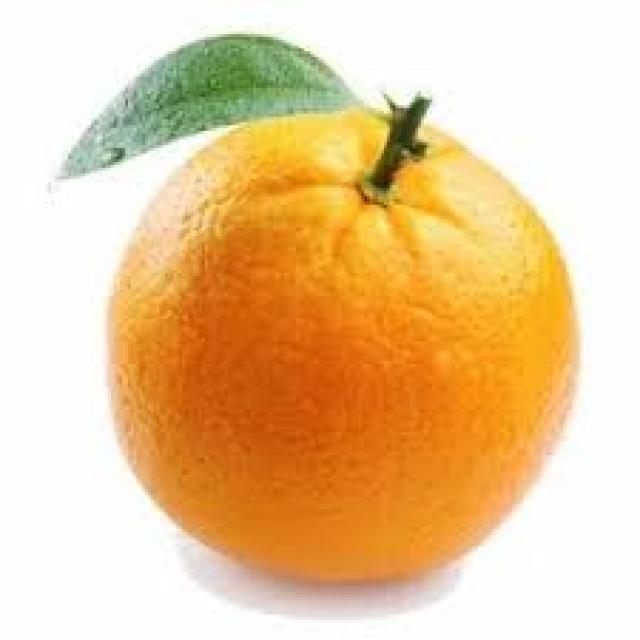non-mango: (104, 91, 580, 585)
